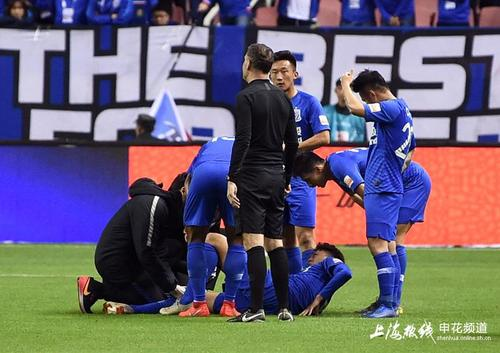fall: (227, 230, 364, 321)
